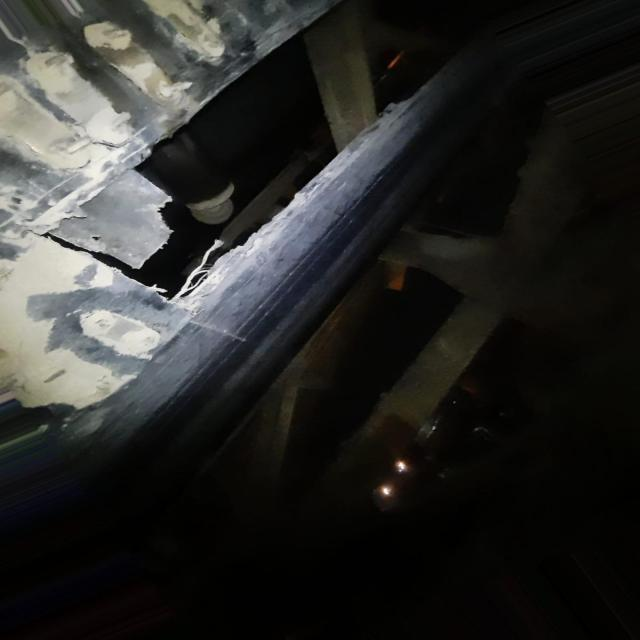Hole: (48, 2, 478, 298)
